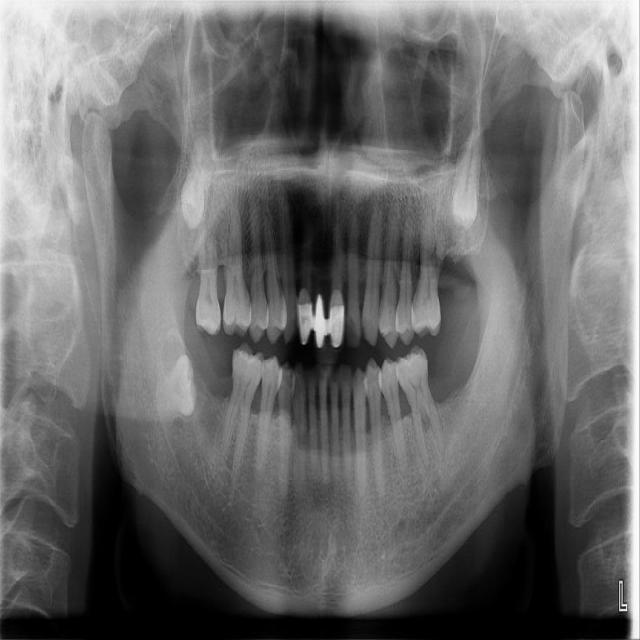3M ESPE Implant: (180, 167, 205, 230)
52: (296, 288, 347, 354)
73: (616, 618, 624, 626)
BioLife Implant: (450, 130, 482, 231)
Biomet 3i Implant: (154, 353, 198, 418)
Caries: (192, 207, 222, 337)
